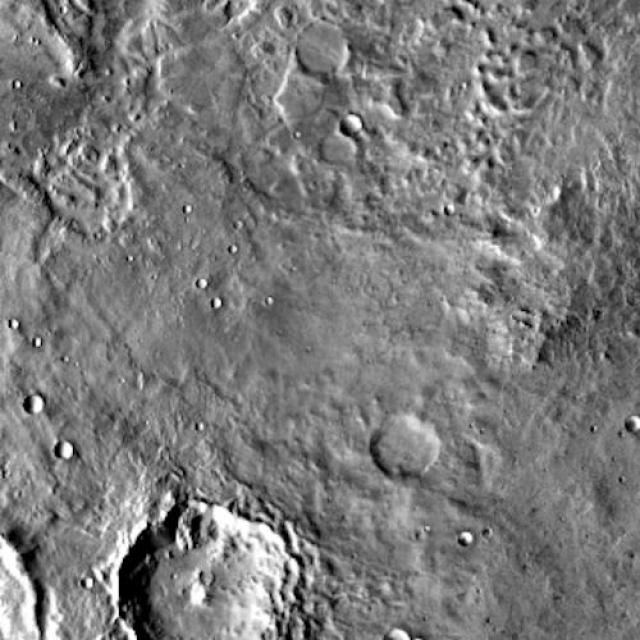crater: (0, 0, 332, 416), (0, 0, 305, 266)
